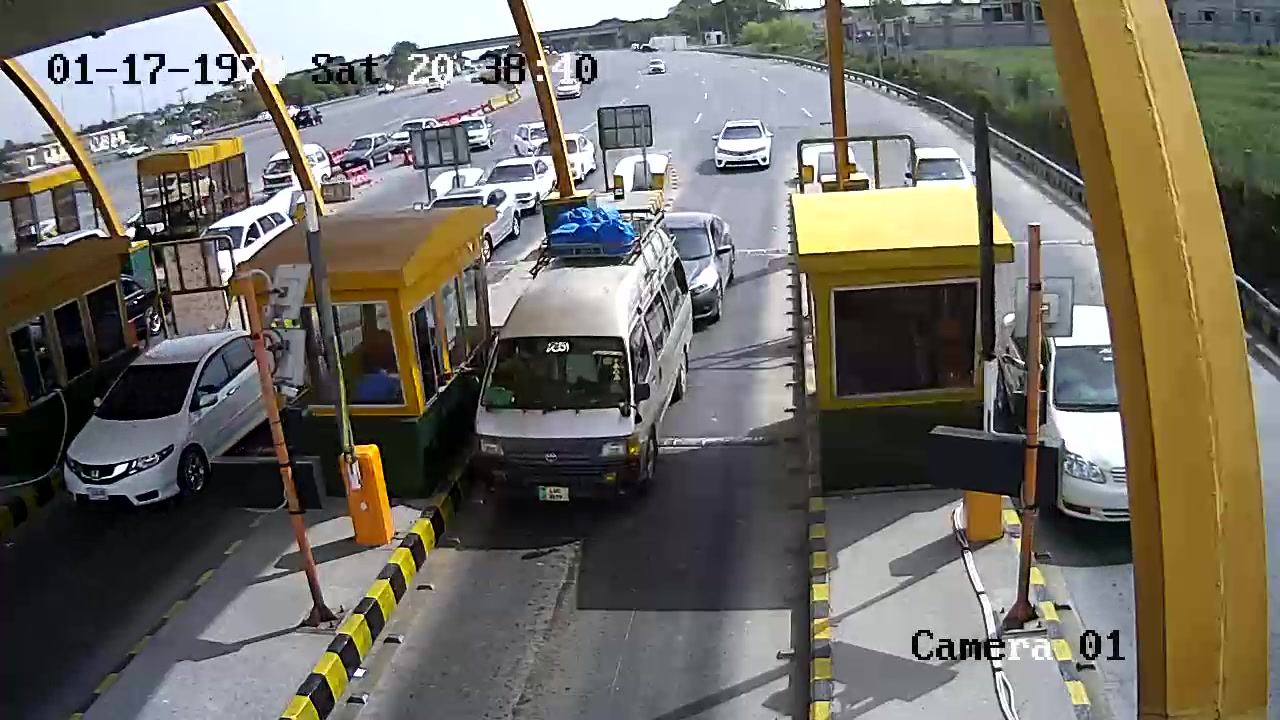F3: (459, 206, 697, 510)
